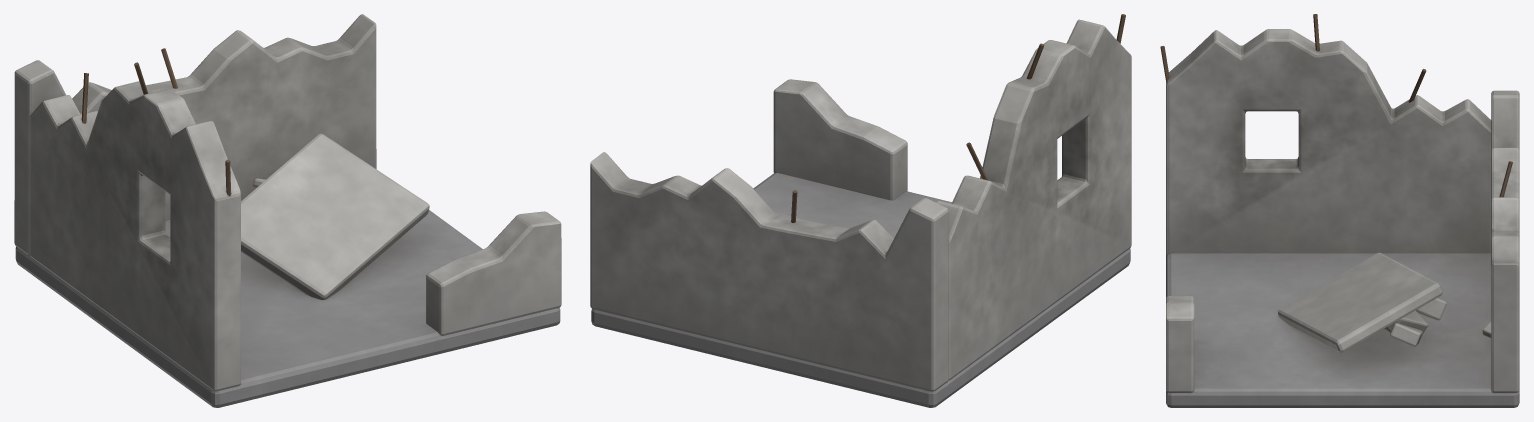
Rendered from ruin-concrete.glb.
The picture shows the model from 3 angles, left to right: view 1: azimuth 30°, elevation 25°; view 2: azimuth 150°, elevation 25°; view 3: azimuth 270°, elevation 25°; orthographic projection. The views are drawn at different scales.
Visible parts, largest first — view 1: ruin_concrete; view 2: ruin_concrete; view 3: ruin_concrete.
Boxes of the visible parts, <box> form: ruin_concrete: <box>14,14,561,407</box>; ruin_concrete: <box>590,14,1131,407</box>; ruin_concrete: <box>1160,14,1519,407</box>.
Size of the model in its own units: 2 by 1.56 by 2.03.
1 material, 1 textured.
